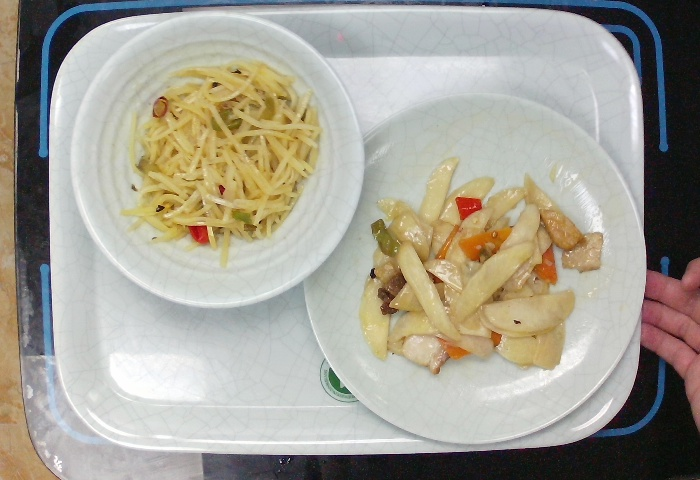JYsf-Da_Yuan_Pan: (298, 87, 651, 449)
JYsf-Xiao_Tang_Wan: (64, 5, 370, 313)
